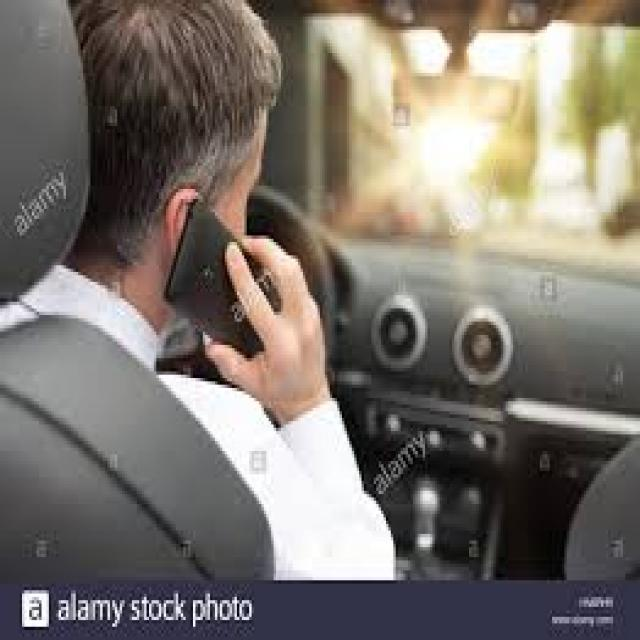Cellphone_calling: (152, 179, 328, 408)
